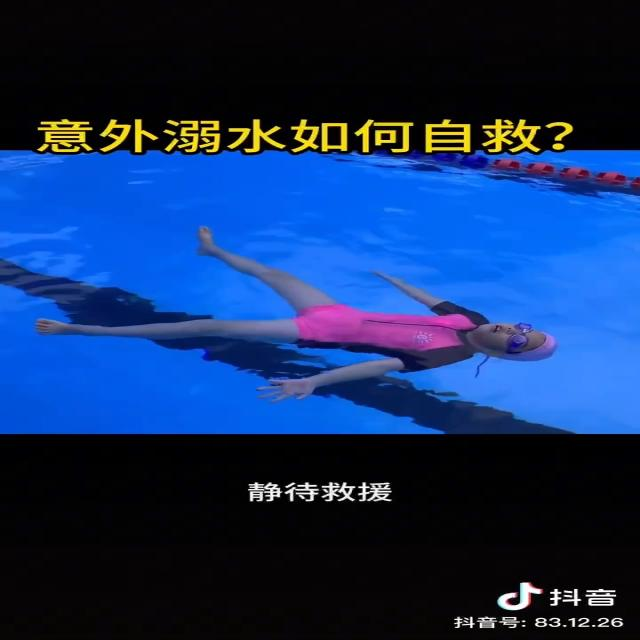Drowning: (36, 228, 558, 404)
